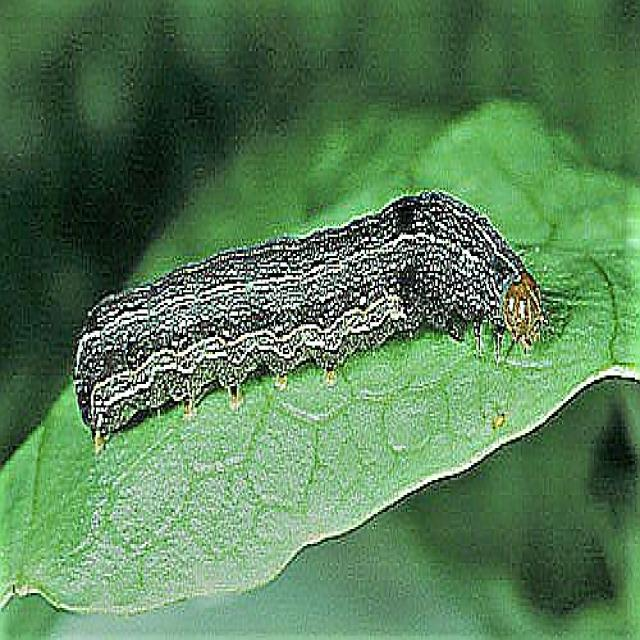Armyworm: (40, 185, 597, 422)
